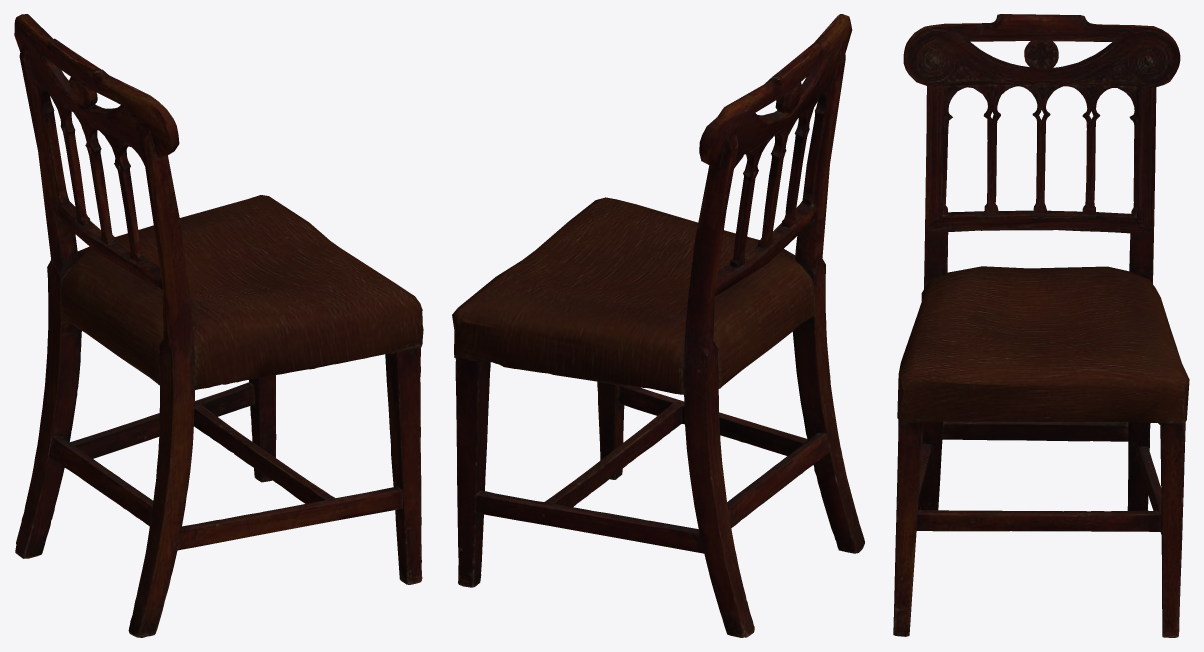
The model's file is chair-wooden-c.glb.
3 views of the same model, side by side, from view 1: azimuth 30°, elevation 25°; view 2: azimuth 150°, elevation 25°; view 3: azimuth 270°, elevation 25° (orthographic). The views are drawn at different scales.
Parts seen in each view (by area): view 1: chair-wooden-c; view 2: chair-wooden-c; view 3: chair-wooden-c.
Part boxes in pixels (x1,y1,x2,y2): chair-wooden-c: (14, 14, 423, 637); chair-wooden-c: (452, 14, 864, 637); chair-wooden-c: (893, 14, 1189, 637).
Size of the model in its own units: 0.4868 by 0.8986 by 0.4796.
Materials: 1 (1 with a texture image).
